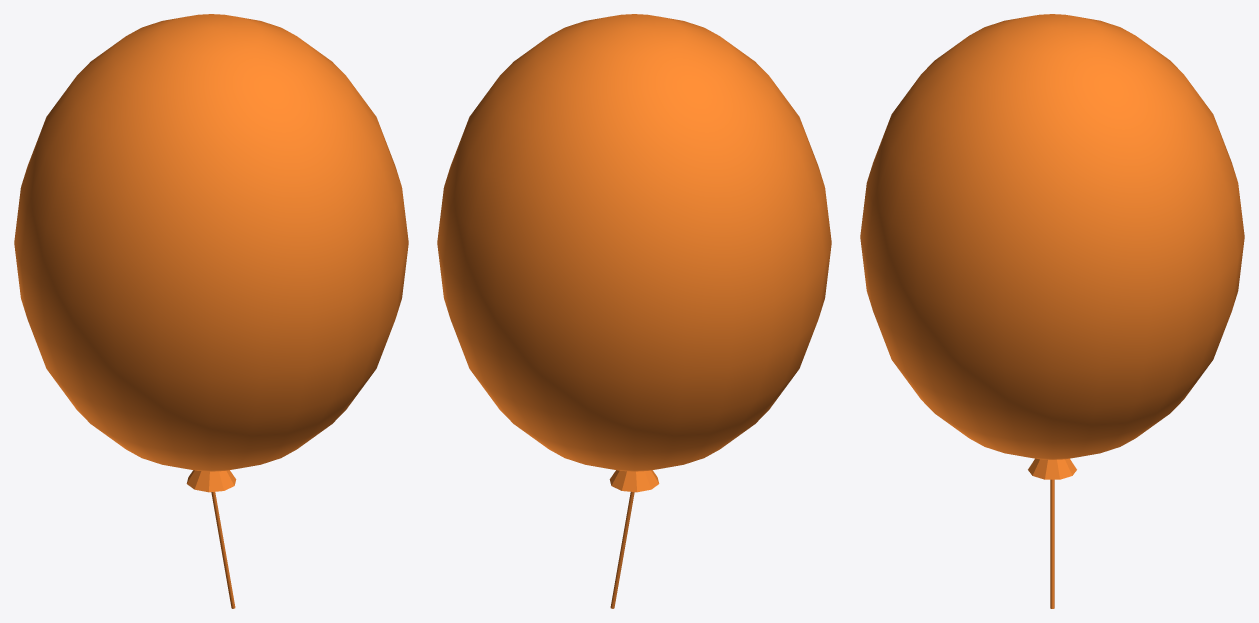
File: balloon_orange.glb
3 renders of one model, left to right at view 1: azimuth 30°, elevation 25°; view 2: azimuth 150°, elevation 25°; view 3: azimuth 270°, elevation 25°, orthographic. The views are drawn at different scales.
Parts seen in each view (by area): view 1: SM_LatexBalloon; view 2: SM_LatexBalloon; view 3: SM_LatexBalloon.
Boxes of the visible parts, box(x1,y1,x2,y2) form: SM_LatexBalloon: box(14, 14, 408, 608); SM_LatexBalloon: box(437, 14, 831, 608); SM_LatexBalloon: box(860, 14, 1244, 608).
Size of the model in its own units: 0.28 by 0.4583 by 0.28.
